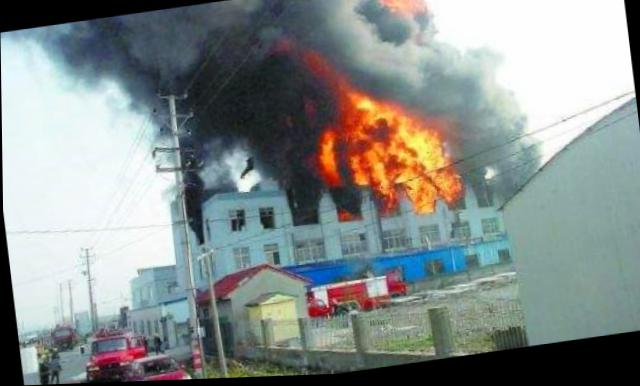fire: (396, 123, 462, 216), (344, 91, 408, 142), (348, 138, 401, 191), (314, 130, 343, 187), (376, 185, 404, 218)
